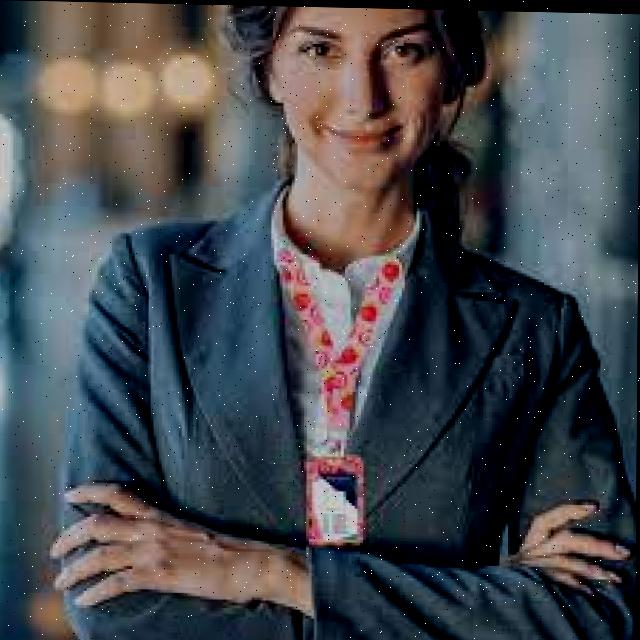id_card: (266, 225, 420, 552)
